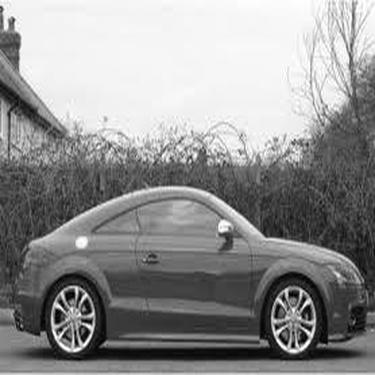car: (11, 179, 369, 364)
